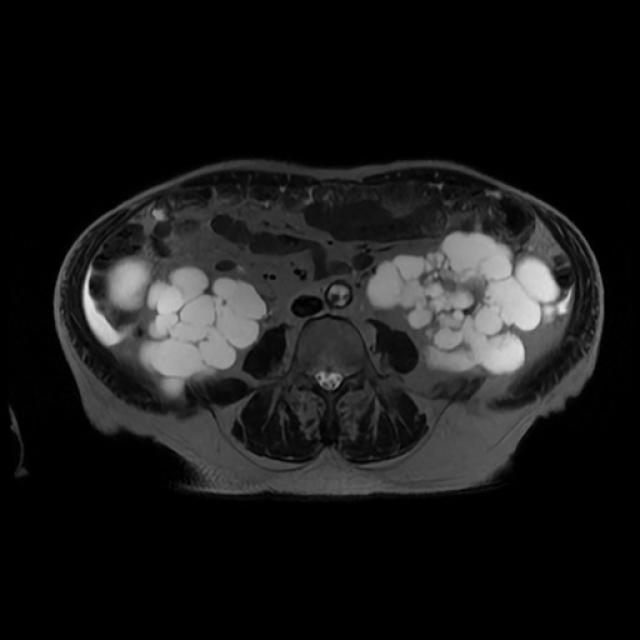sag: (107, 254, 268, 398)
sol: (364, 230, 559, 373)
